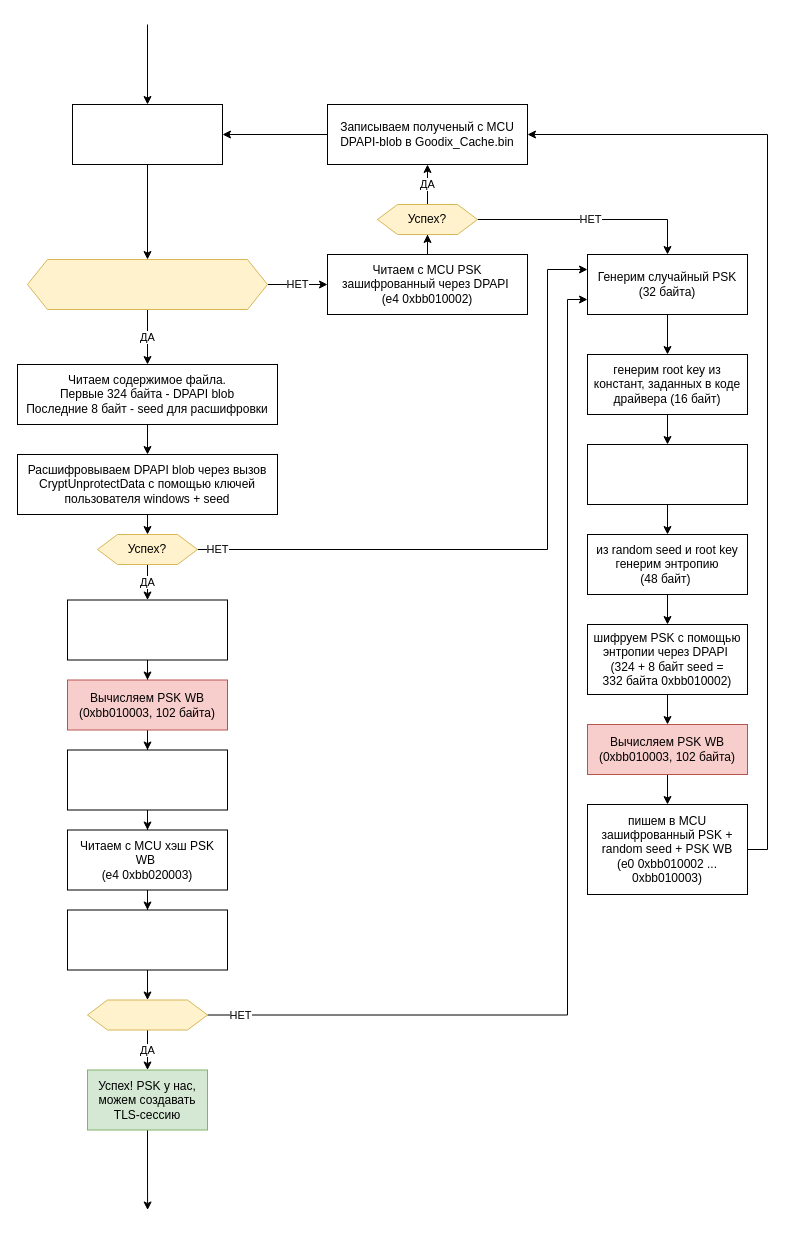
Image size: 793x1236. Some labels were removed from this diagram. Here are the shapes that lost their labels. From the top down, the box of each, then its label:
(72, 104, 222, 164): Начало проверки PSK
(26, 258, 268, 310): Goodix_Cache.bin существует, не пуст и имеет длину 332 байта
(586, 444, 748, 504): генерим random seed (8 байт)
(66, 599, 228, 660): Имеем расшифрованный PSK (32 байта)
(66, 749, 228, 810): Вычисляем SHA-256 хэш PSK WB (32 байта)
(66, 909, 228, 970): Сравниваем хэш, полученный от MCU с рассчитанным
(86, 999, 208, 1030): Хеши одинаковы?
